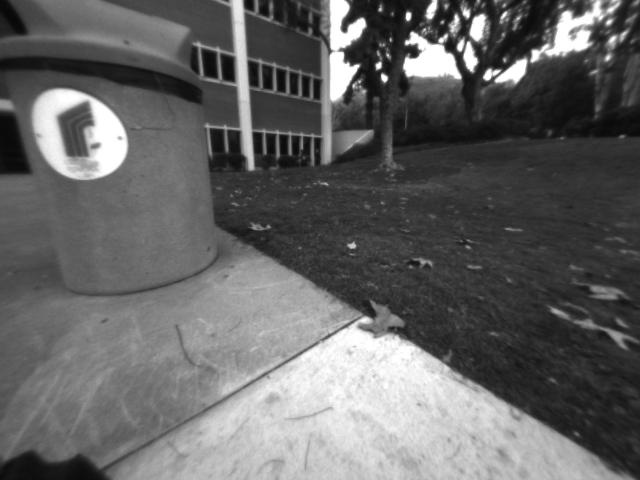trashcan: (1, 1, 230, 302)
